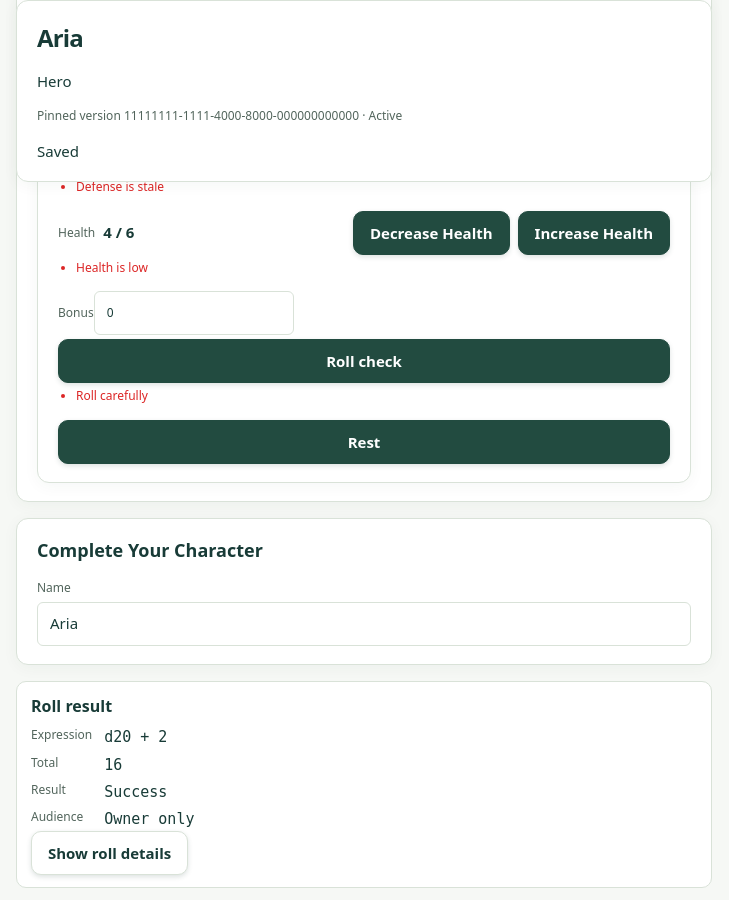
CharacterSheet › shows roll dice and bindings only when details are requested
This screenshot has width=729, height=900.
(page scrolled)
Click the button "Show roll details" at (110,853), box [31,831,188,875]
(page scrolled)
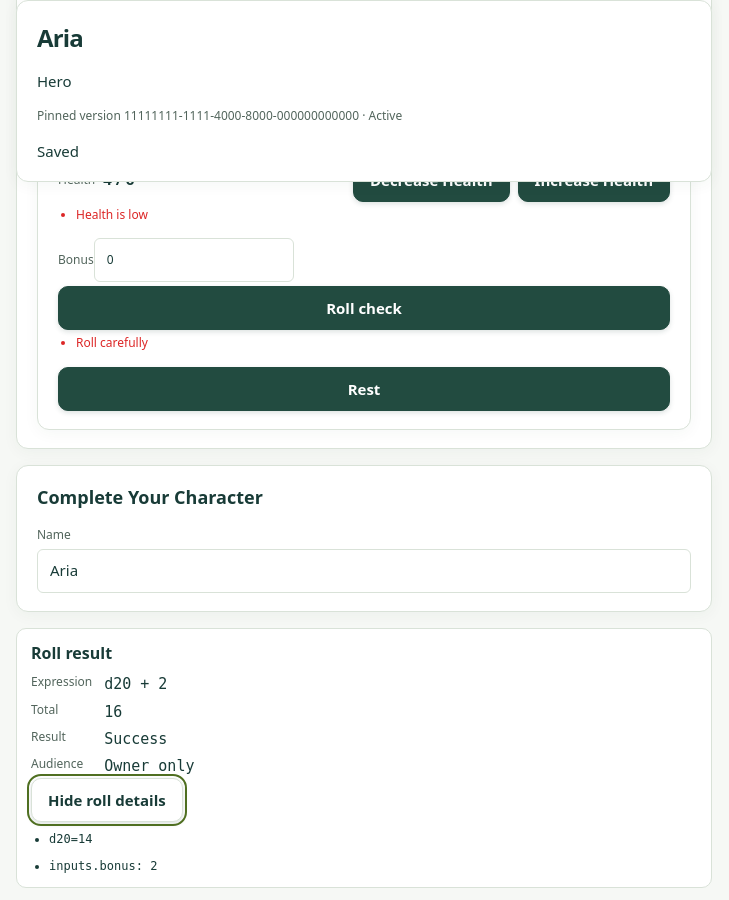
Expected: the list item "d20=14" is shown, [49,832,92,846]
Expected: the list item "inputs.bonus: 2" is shown, [49,859,157,873]
